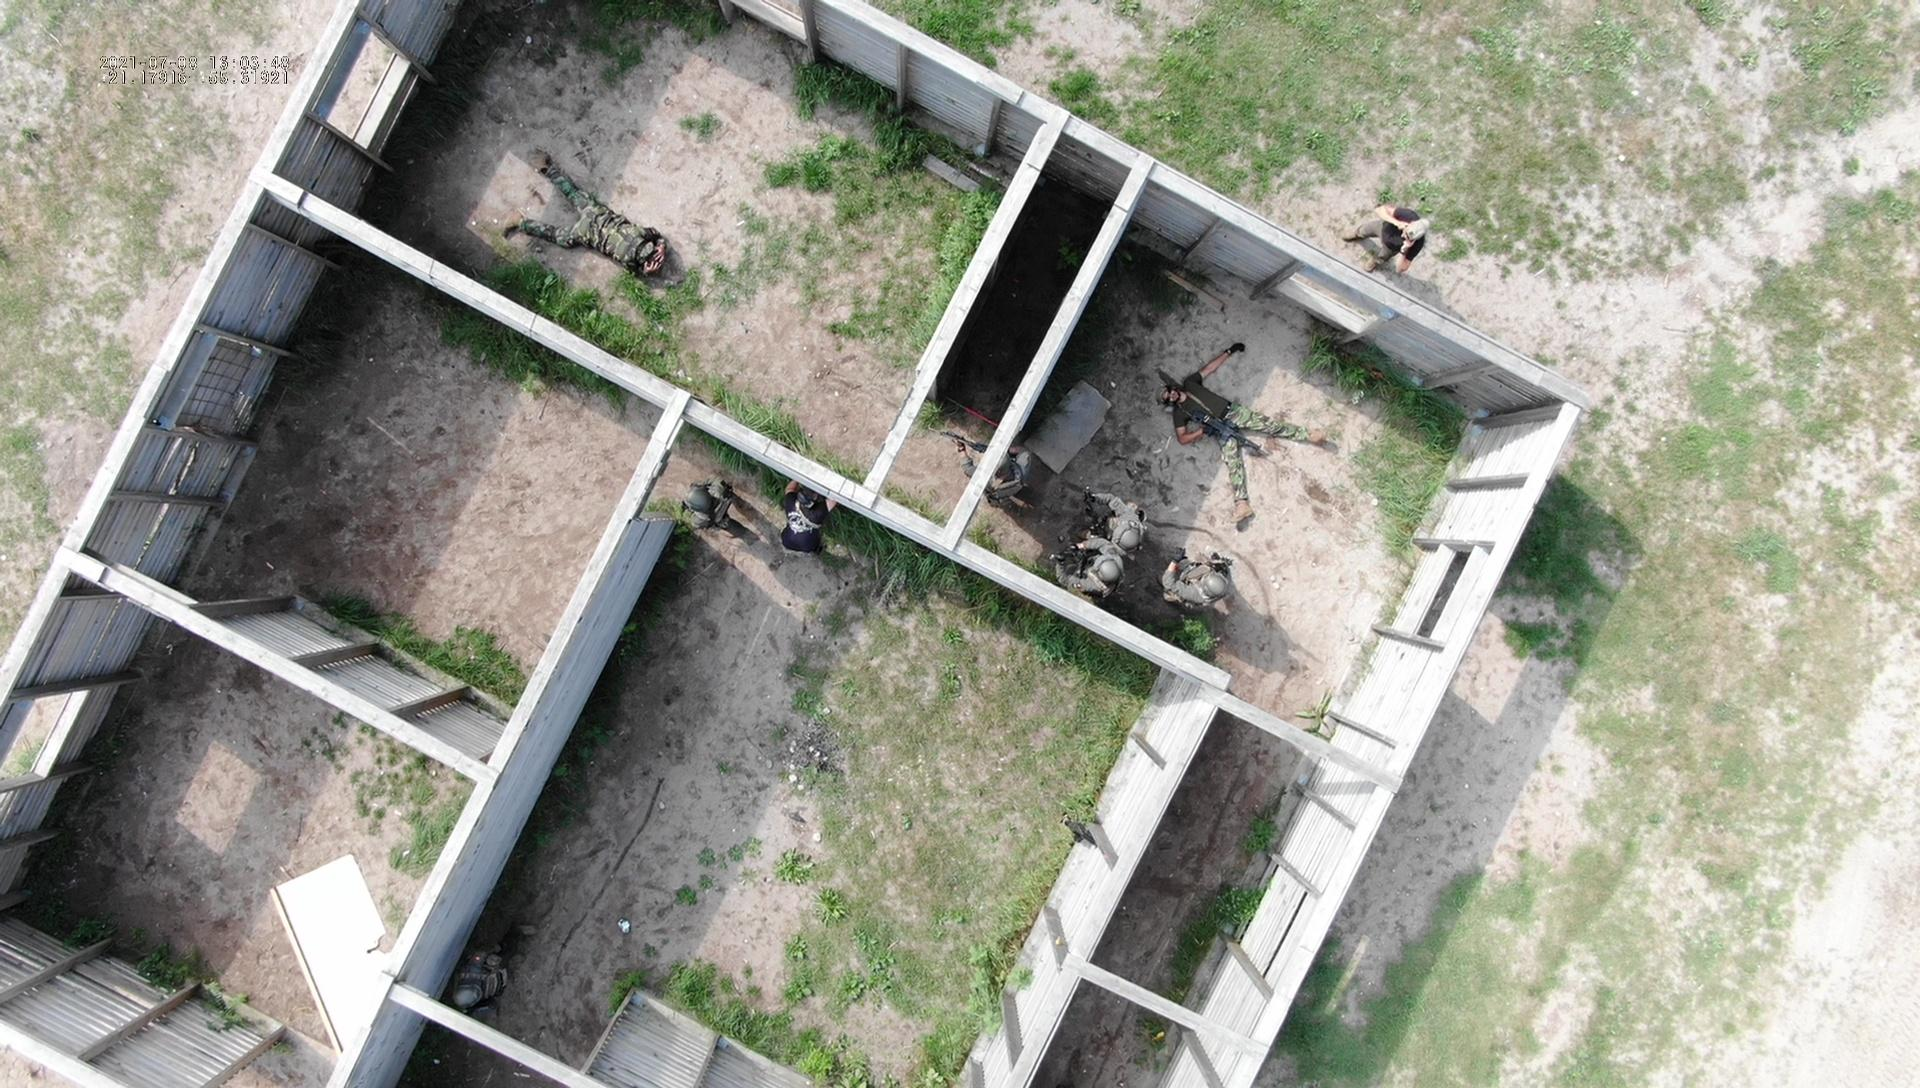Soldier: (1160, 320, 1344, 506), (500, 158, 694, 302), (947, 430, 1033, 508), (1160, 546, 1255, 616), (1051, 534, 1145, 593), (1092, 487, 1167, 559), (670, 477, 746, 541), (452, 957, 514, 1023)
